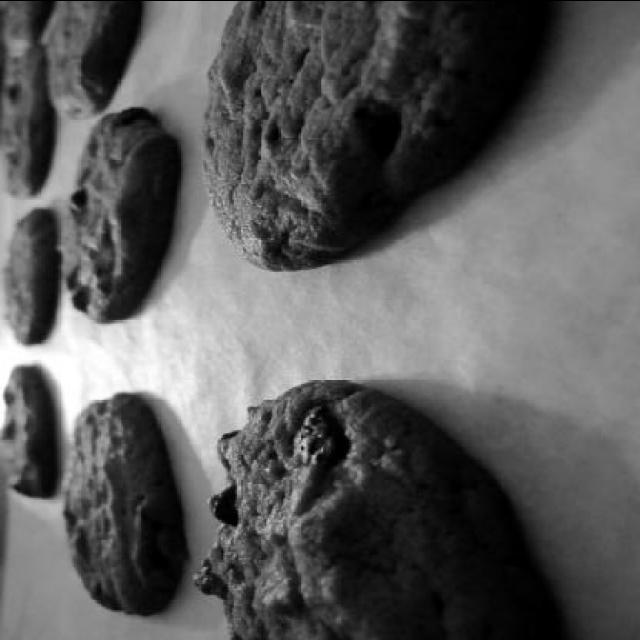Cookie: (190, 382, 547, 640), (197, 0, 486, 273), (59, 390, 187, 614), (54, 105, 183, 324), (38, 0, 146, 122), (0, 45, 55, 202), (0, 206, 57, 346), (0, 365, 58, 498), (0, 1, 43, 58)
